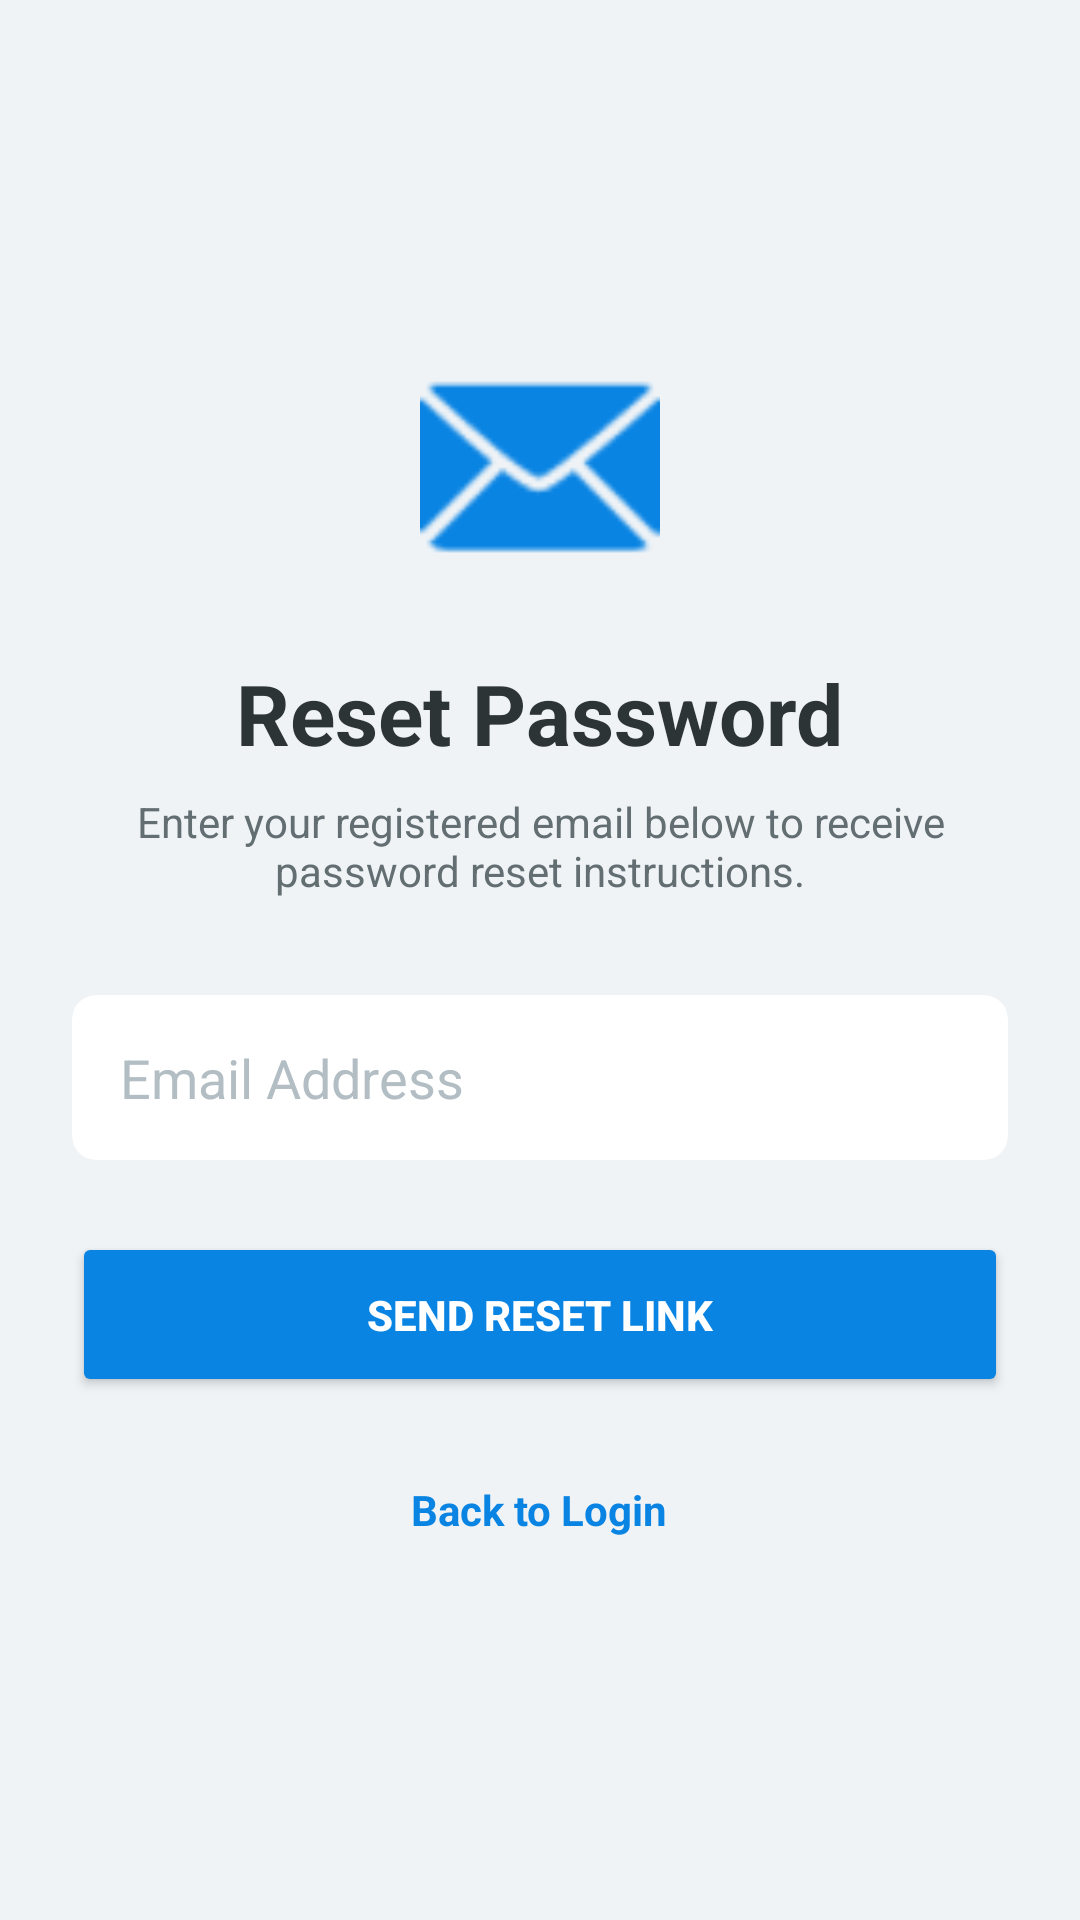

Icons on this 1080×1920 Android screen, each with its box as (x1, y1, x2, y2):
email: (420, 382, 660, 553)
